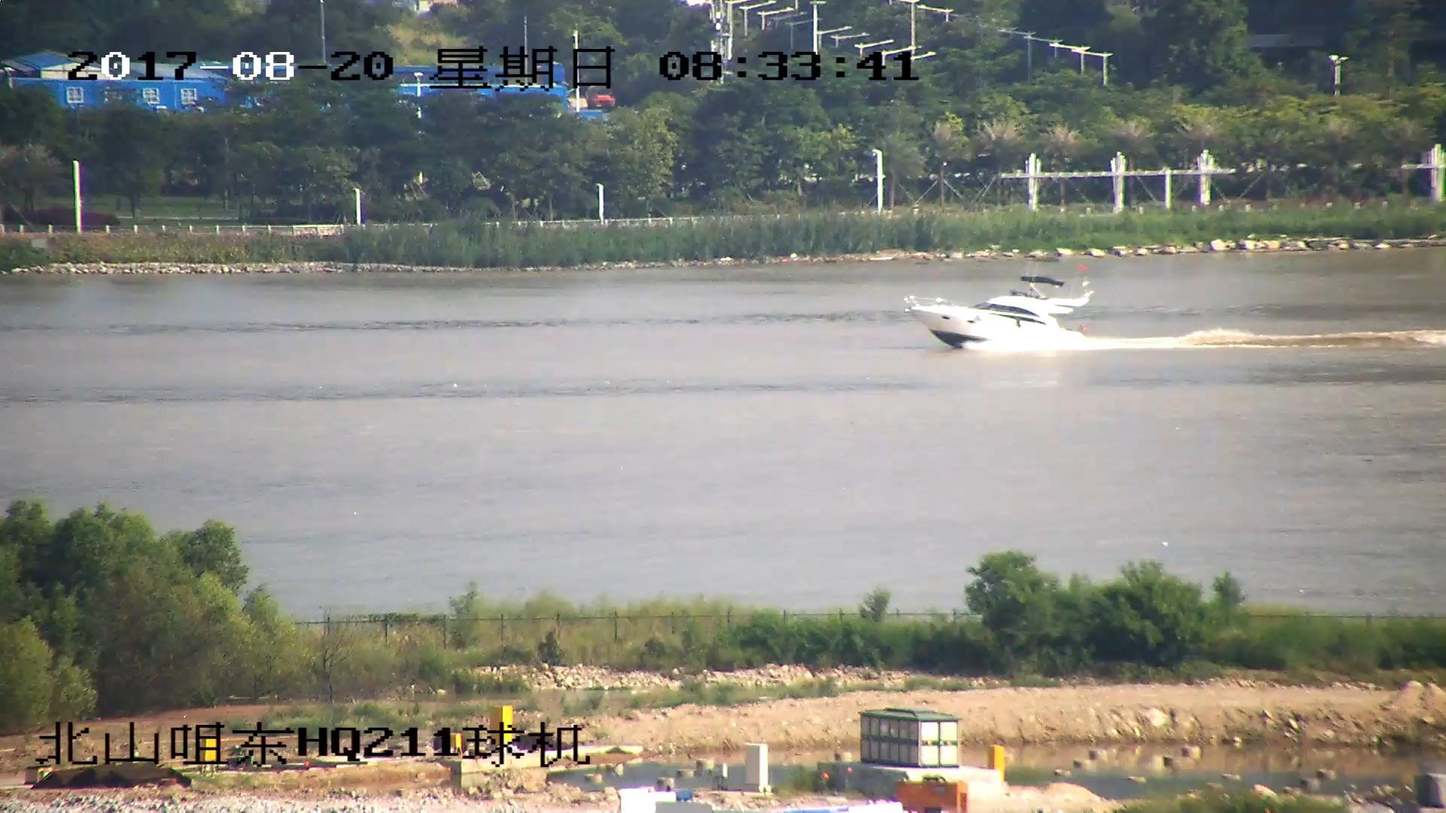passenger ship: (903, 272, 1100, 348)
